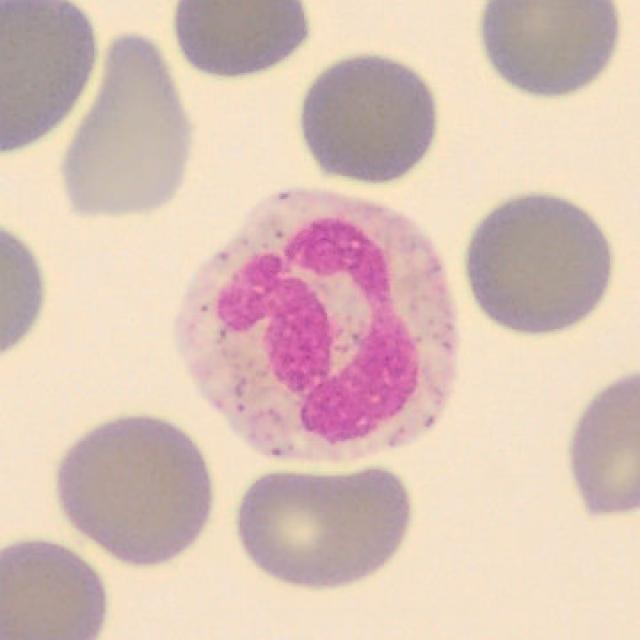Neutrofilo segmentado: (179, 182, 457, 464)
